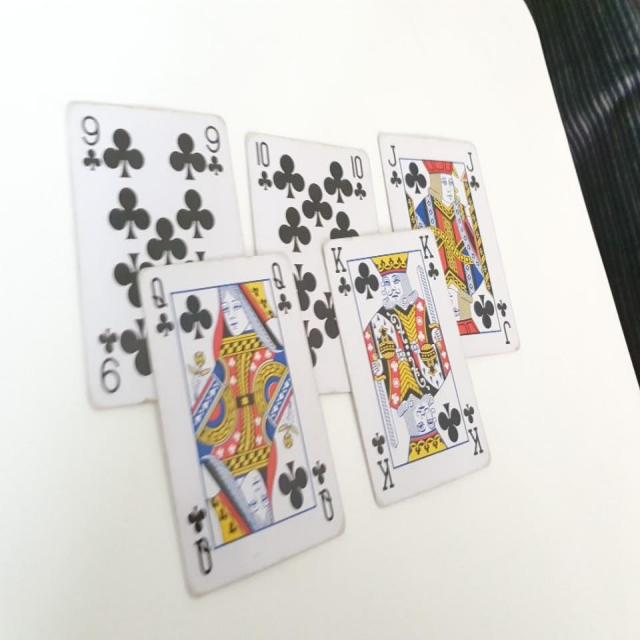10 Trefoils: (245, 129, 381, 398)
9 Trefoils: (67, 95, 246, 408)
J Trefoils: (377, 130, 520, 357)
K Trefoils: (321, 226, 492, 506)
Q Trefoils: (134, 246, 348, 603)
